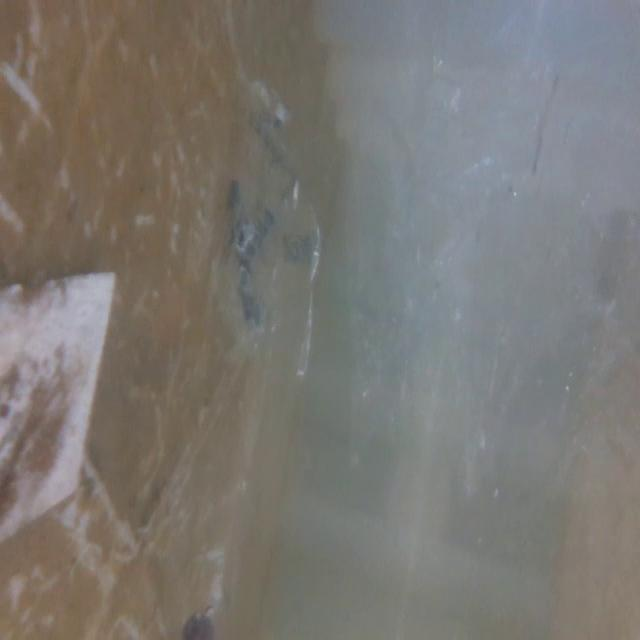metal: (0, 260, 134, 556)
plastic bags: (357, 0, 640, 548), (197, 81, 343, 394)
